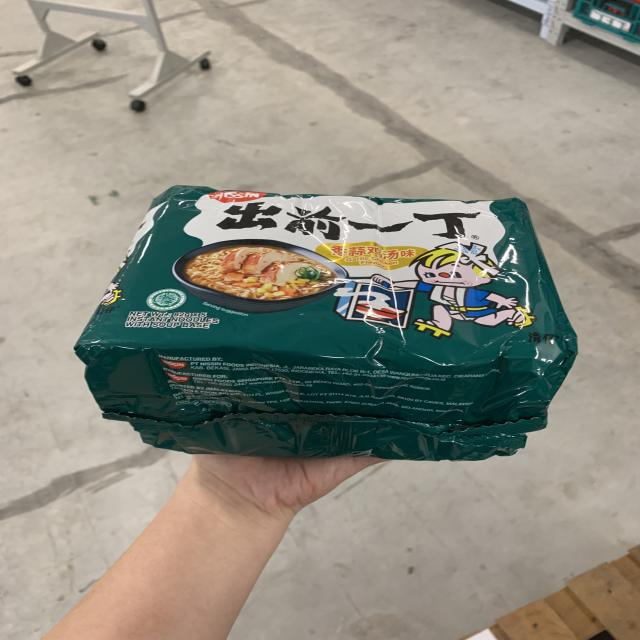object_name: (110, 189, 551, 448)
